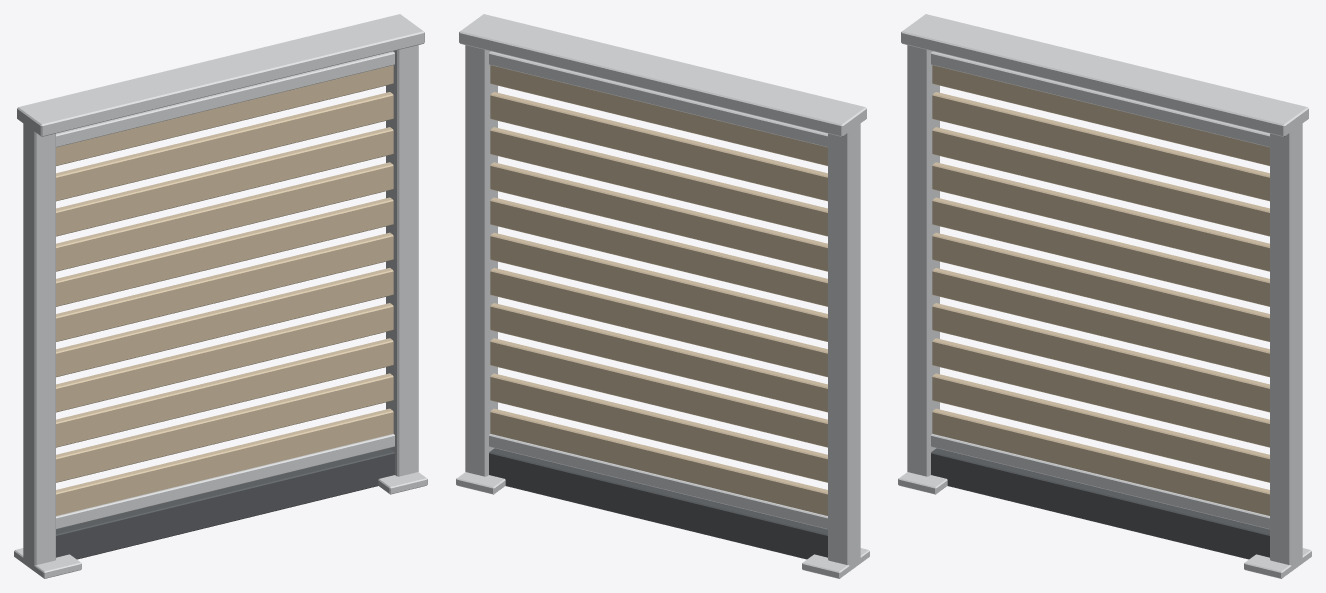
File: laundrette-and-cleaning-bin-store-enclosure-ee340996__25602.glb
The picture shows the model from 3 angles, left to right: view 1: azimuth 30°, elevation 25°; view 2: azimuth 150°, elevation 25°; view 3: azimuth 330°, elevation 25°; orthographic projection.
Parts seen in each view (by area): view 1: bin-store-enclosure; view 2: bin-store-enclosure; view 3: bin-store-enclosure.
Boxes of the visible parts, bbox=[...] form: bin-store-enclosure: bbox=[14, 14, 427, 578]; bin-store-enclosure: bbox=[456, 14, 869, 578]; bin-store-enclosure: bbox=[898, 14, 1311, 578].
Size of the model in its own units: 1.6 by 1.8 by 0.22.
